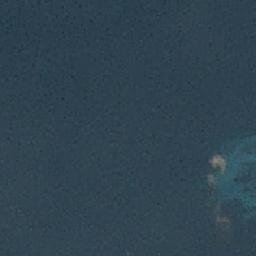debris: (208, 153, 228, 171), (215, 215, 232, 224), (209, 174, 216, 191)
